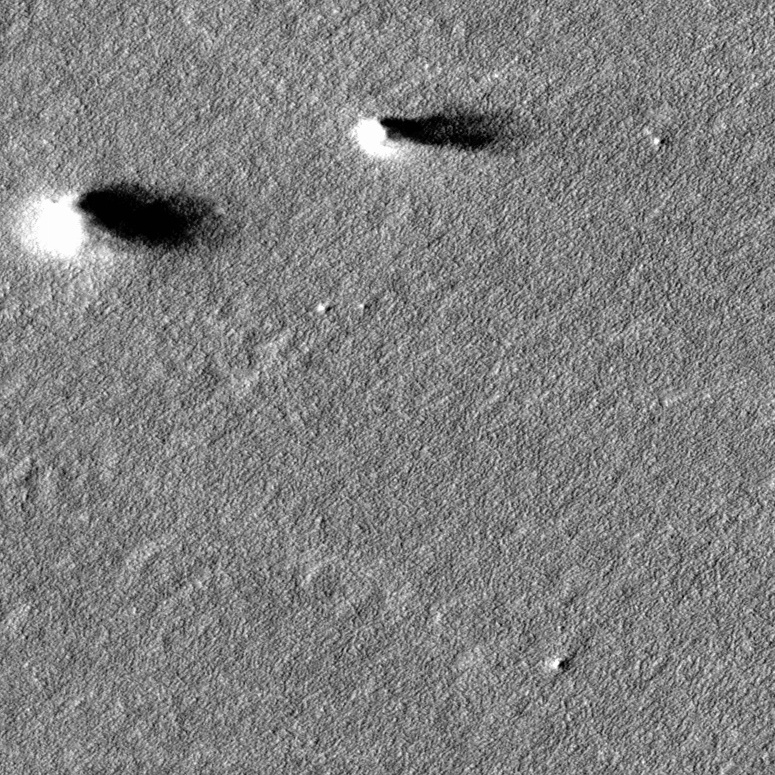dust_devil: (13, 179, 233, 263), (346, 105, 535, 166)
